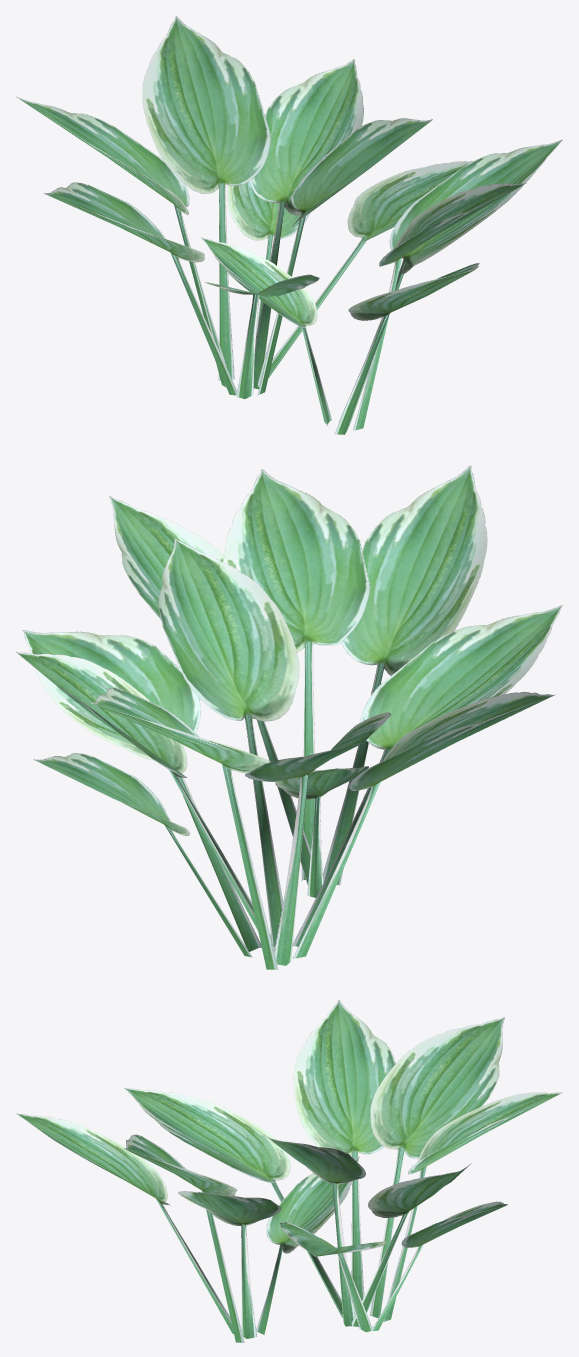
The model's file is plant_small_wg_03M.fbx.
3 views of the same model, one above another, from view 1: azimuth 30°, elevation 25°; view 2: azimuth 150°, elevation 25°; view 3: azimuth 270°, elevation 25° (orthographic). The views are drawn at different scales.
Visible parts, largest first — view 1: plant_small_wg_03M; view 2: plant_small_wg_03M; view 3: plant_small_wg_03M.
Part boxes in pixels (box(x1,y1,x2,y2)): plant_small_wg_03M: box(16, 16, 562, 434); plant_small_wg_03M: box(16, 465, 562, 969); plant_small_wg_03M: box(16, 1000, 562, 1342).
Bounding box in the file's own units: 69.86 × 40.91 × 81.84.
